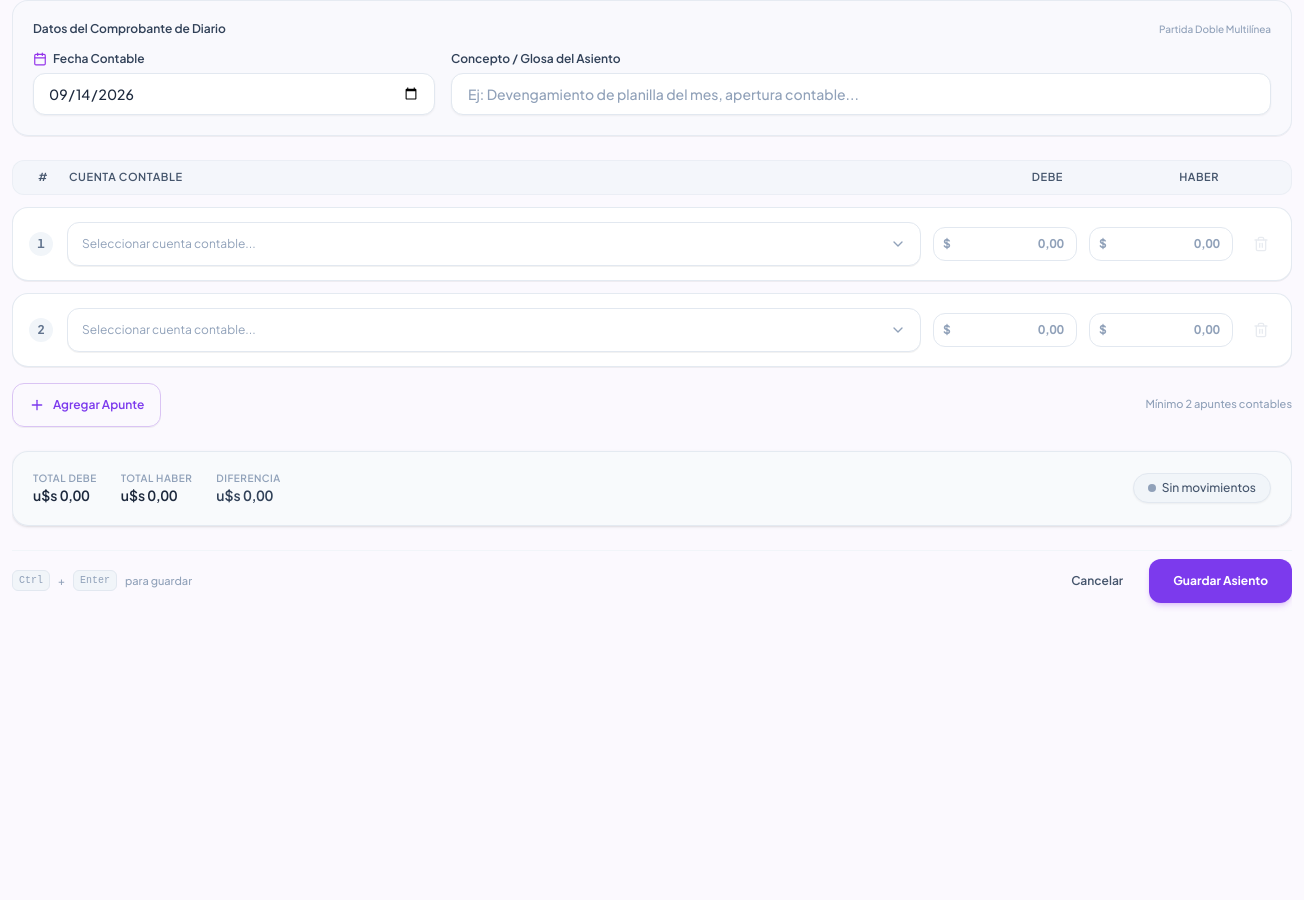
Test: User Story 2: Free Journal Entry Grid (T011) › 2. FreeJournalEntryGrid Component (T013) › multi-line residual auto-fill: Line 1 Debit = 100, Line 2 Credit = 40 -> Line 3 Credit = 60
The image size is (1304, 900).
Type "100" into the field named "debe" at (1005,244), box top-left (933, 226), bottom-right (1077, 260)
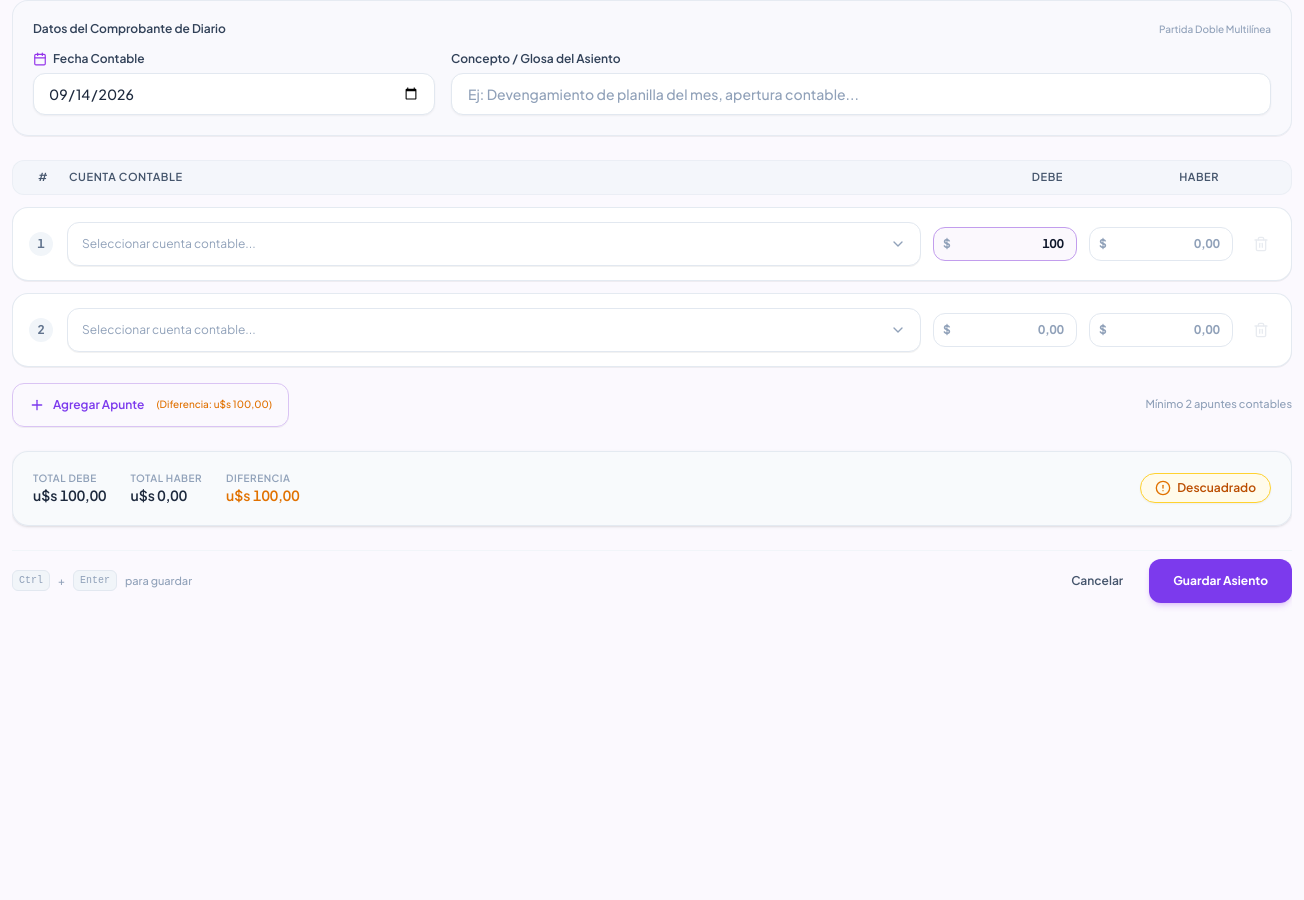
Type "40" into the field named "haber" at (1161,330), box top-left (1089, 312), bottom-right (1233, 346)
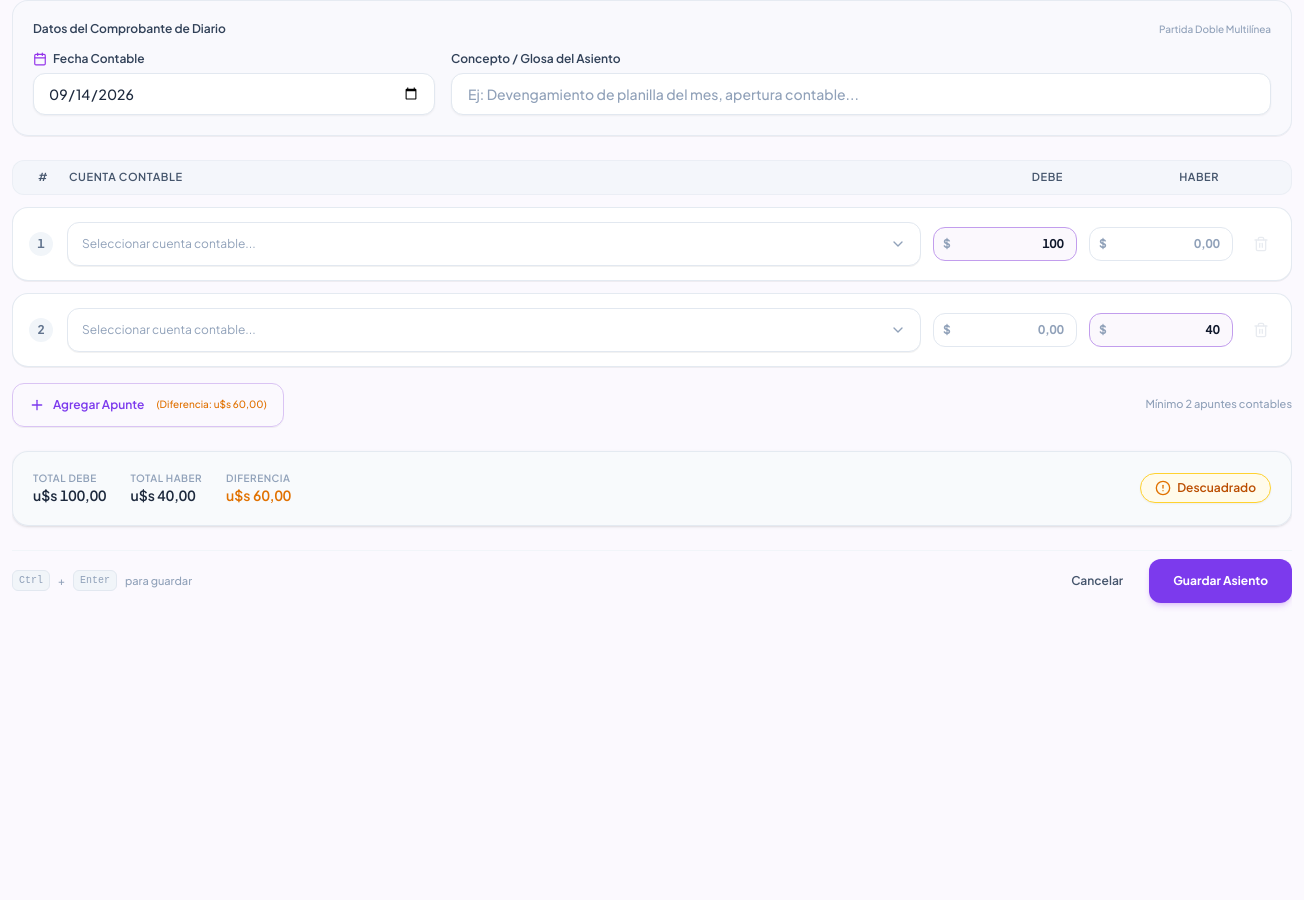
Click the button "Agregar Apunte (Diferencia: u$s 60,00)" at (99,404), box top-left (12, 382), bottom-right (284, 426)
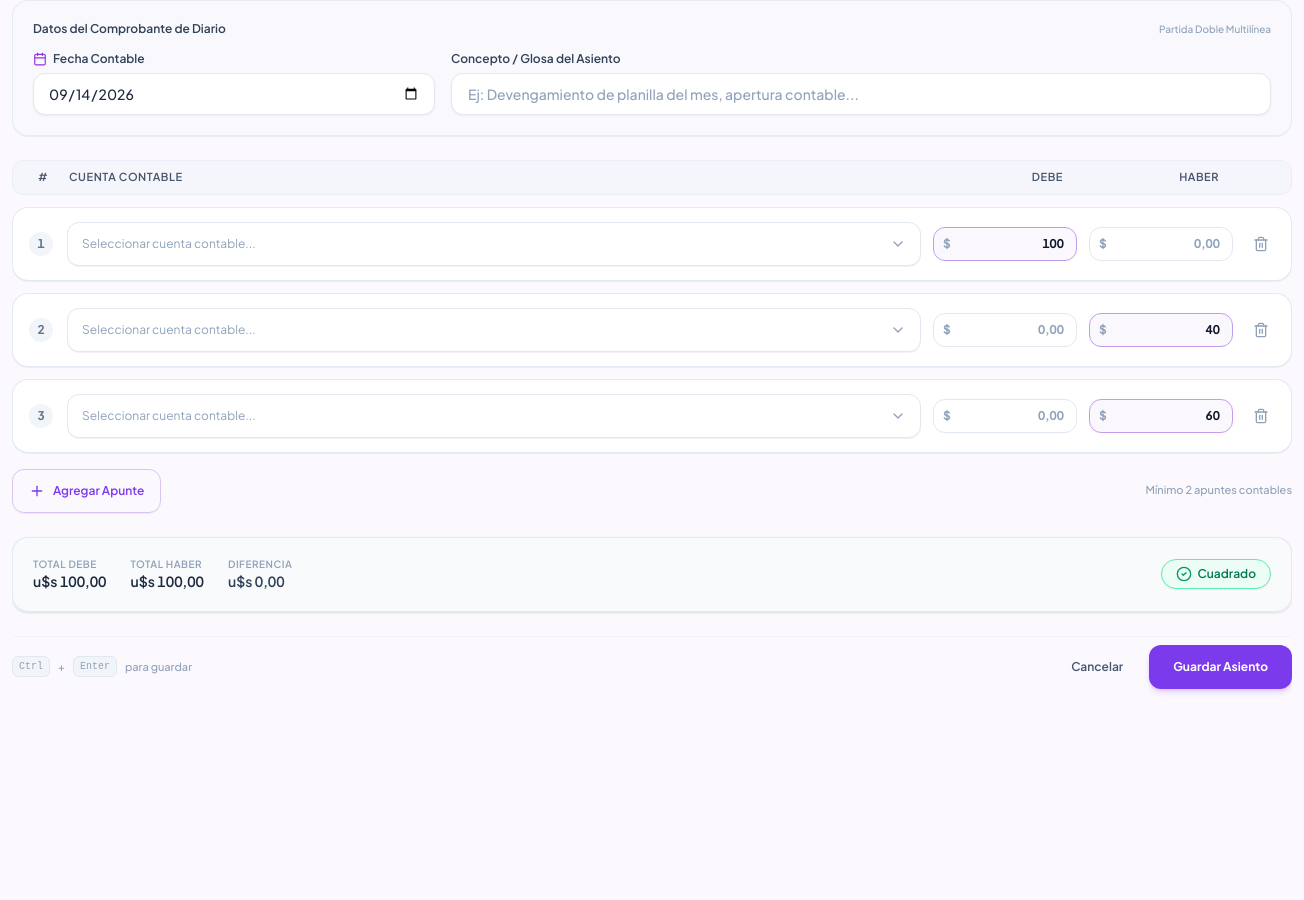
Now the number of fields named "haber" is 3, box top-left (1089, 226), bottom-right (1233, 260); top-left (1089, 312), bottom-right (1233, 346); top-left (1089, 398), bottom-right (1233, 432)
Now the 2nd field named "haber" holds "60", box top-left (1089, 398), bottom-right (1233, 432)
